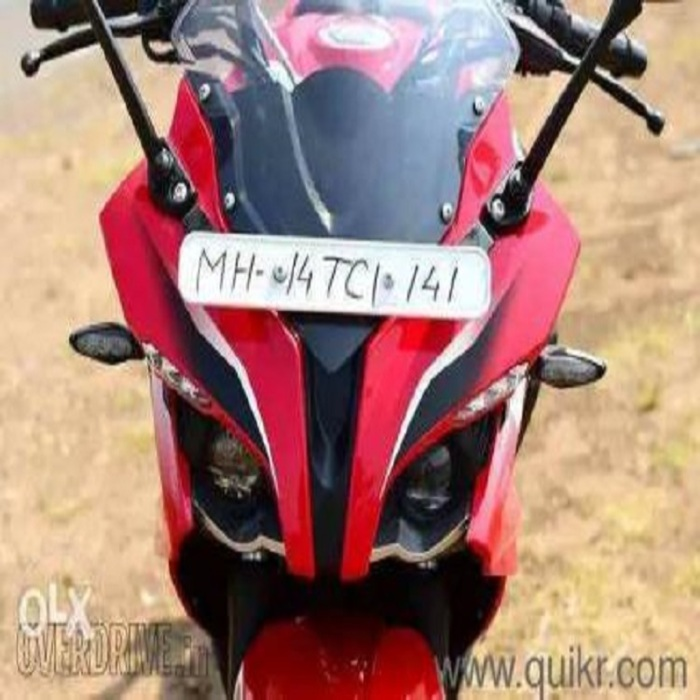n: (151, 228, 502, 326)
